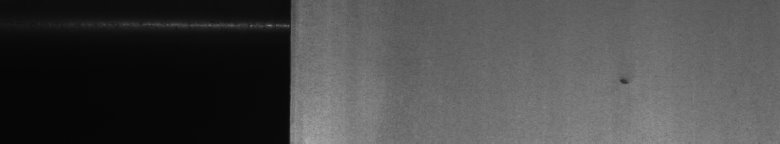fi: (619, 72, 632, 92)
